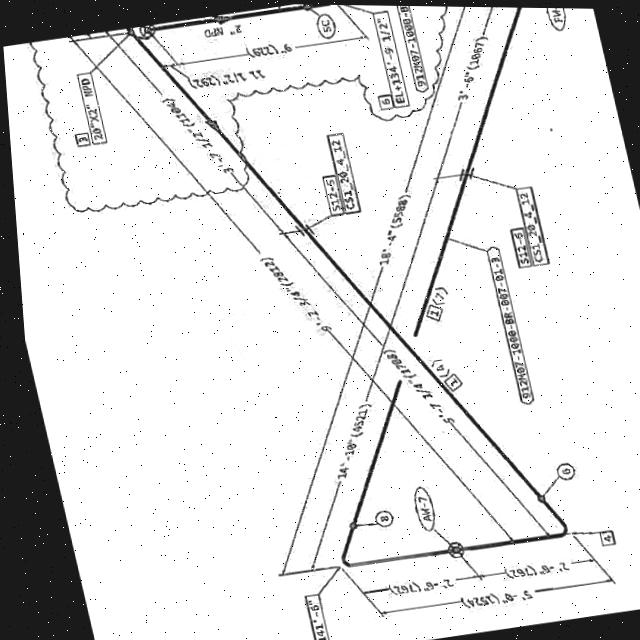Item number: (369, 6, 409, 108), (73, 72, 105, 146), (292, 590, 322, 640), (315, 172, 342, 217), (502, 224, 529, 269), (435, 370, 458, 393), (585, 526, 609, 547), (69, 132, 90, 149), (374, 92, 393, 110)
Measrement: (63, 37, 338, 349), (384, 6, 499, 315), (297, 362, 377, 562), (354, 569, 610, 624), (345, 565, 479, 602), (463, 551, 593, 585)
Pipeline: (186, 88, 570, 573)
Symbol: (300, 3, 348, 13)
Weld number: (399, 482, 432, 533), (309, 10, 339, 39), (541, 6, 571, 34), (361, 505, 390, 531), (544, 459, 572, 481)
other: (479, 242, 528, 406), (510, 180, 548, 266), (323, 128, 359, 215)
